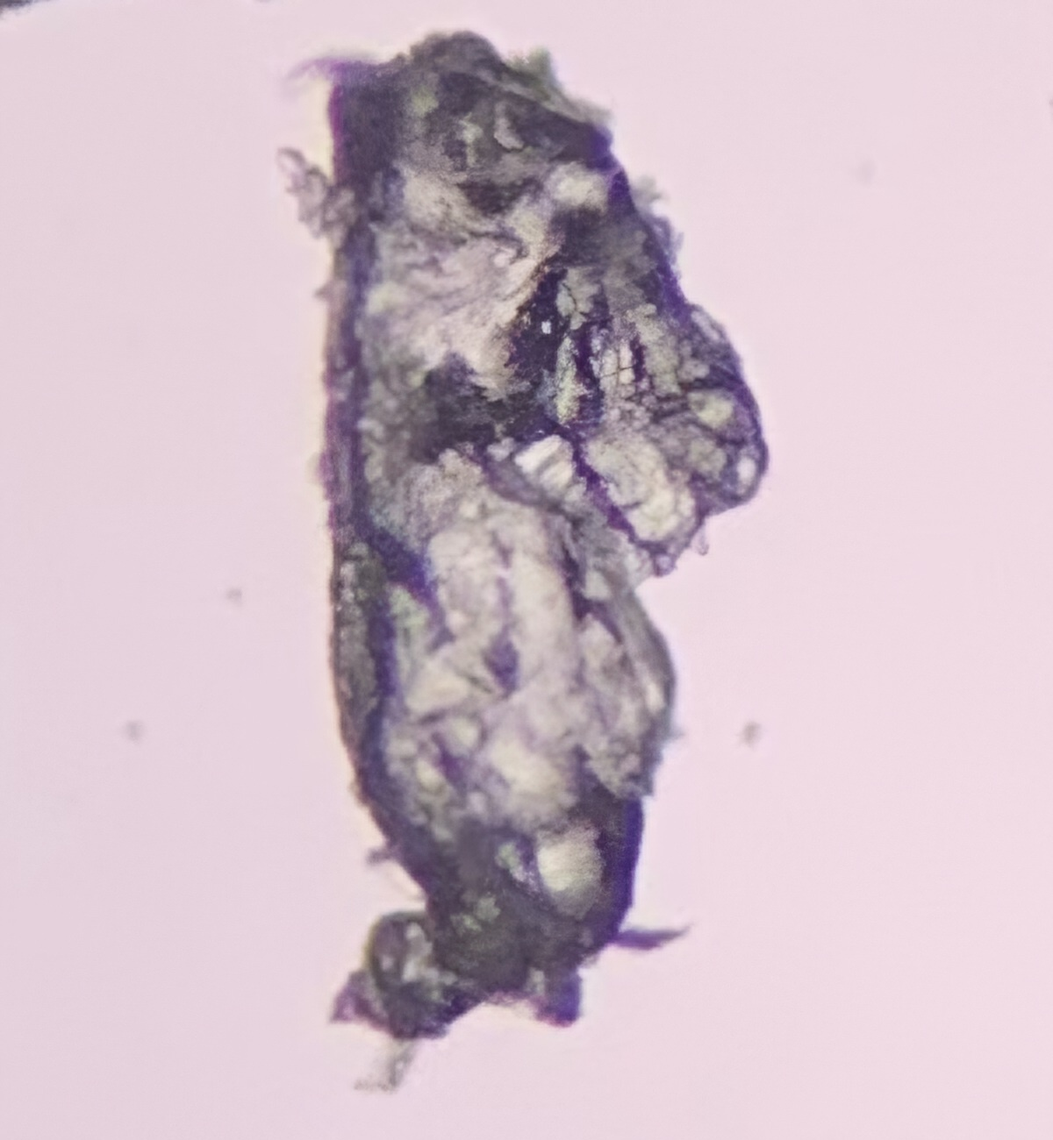microplastic: (273, 29, 773, 1098)
